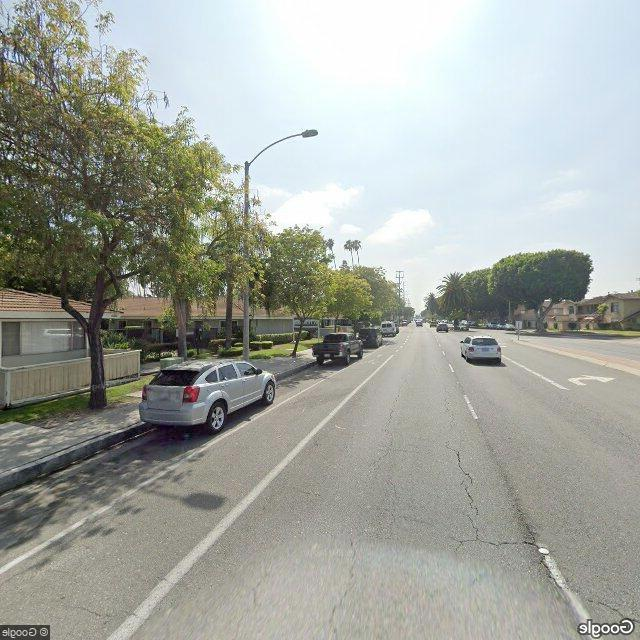pothole: (323, 537, 365, 639), (446, 438, 485, 543)
